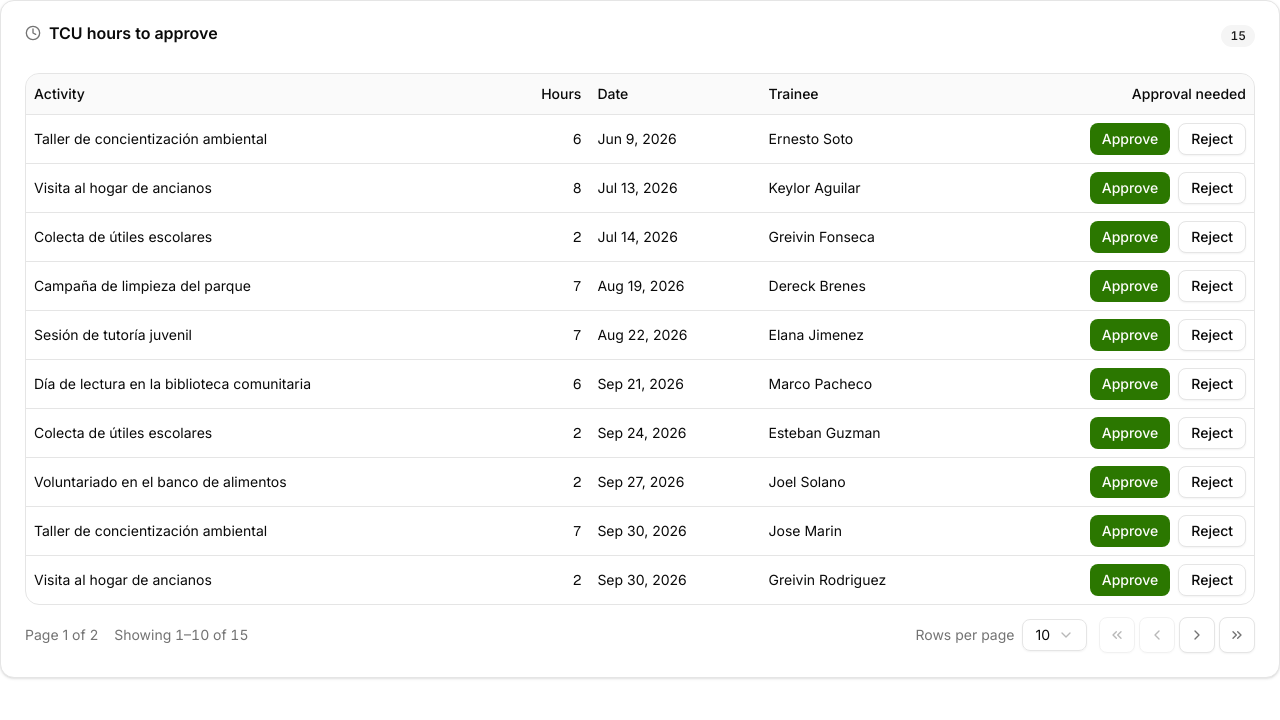
Scenario: <TcuApprovalQueue /> (admin: every pending activity) › drops an approved activity from the queue and the count
Click the button "Approve" in the row of "Jun 9, 2026" at (1130, 138), box [1090,122,1170,154]
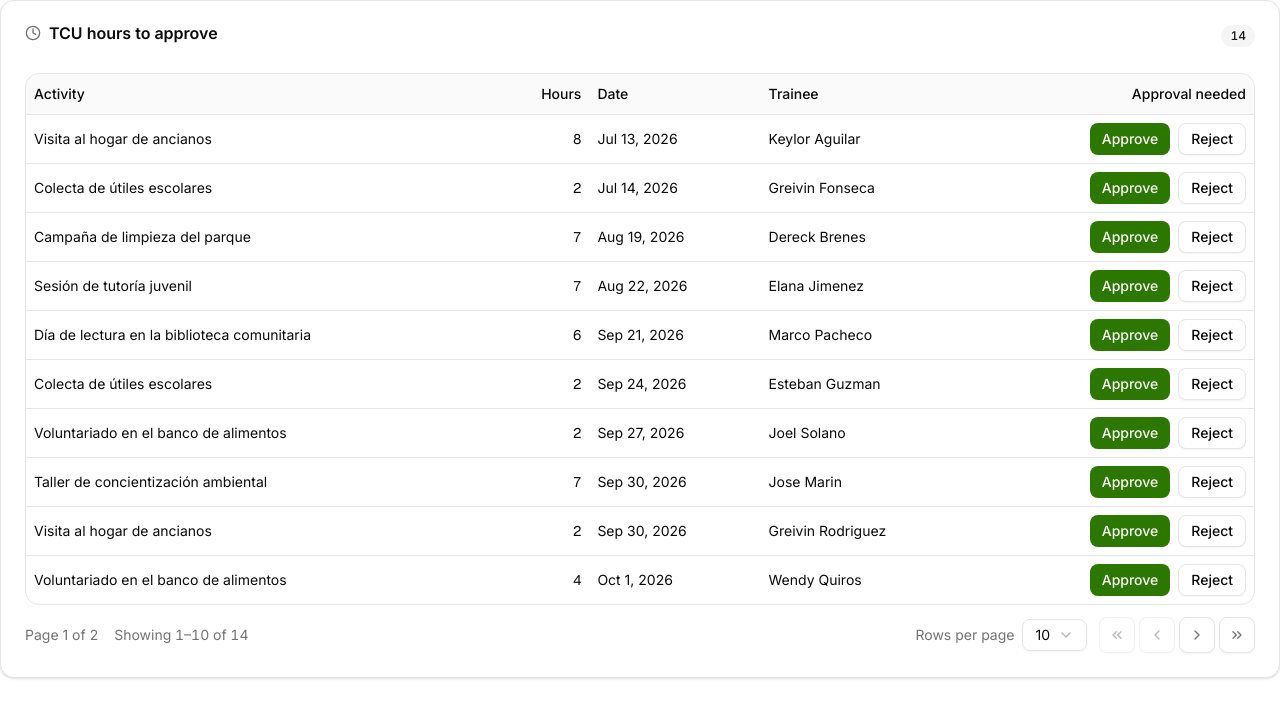
Expected: the heading "TCU hours to approve" is shown, [25,23,218,43]
Result: the text "14" is shown at [1221,25,1255,47]
